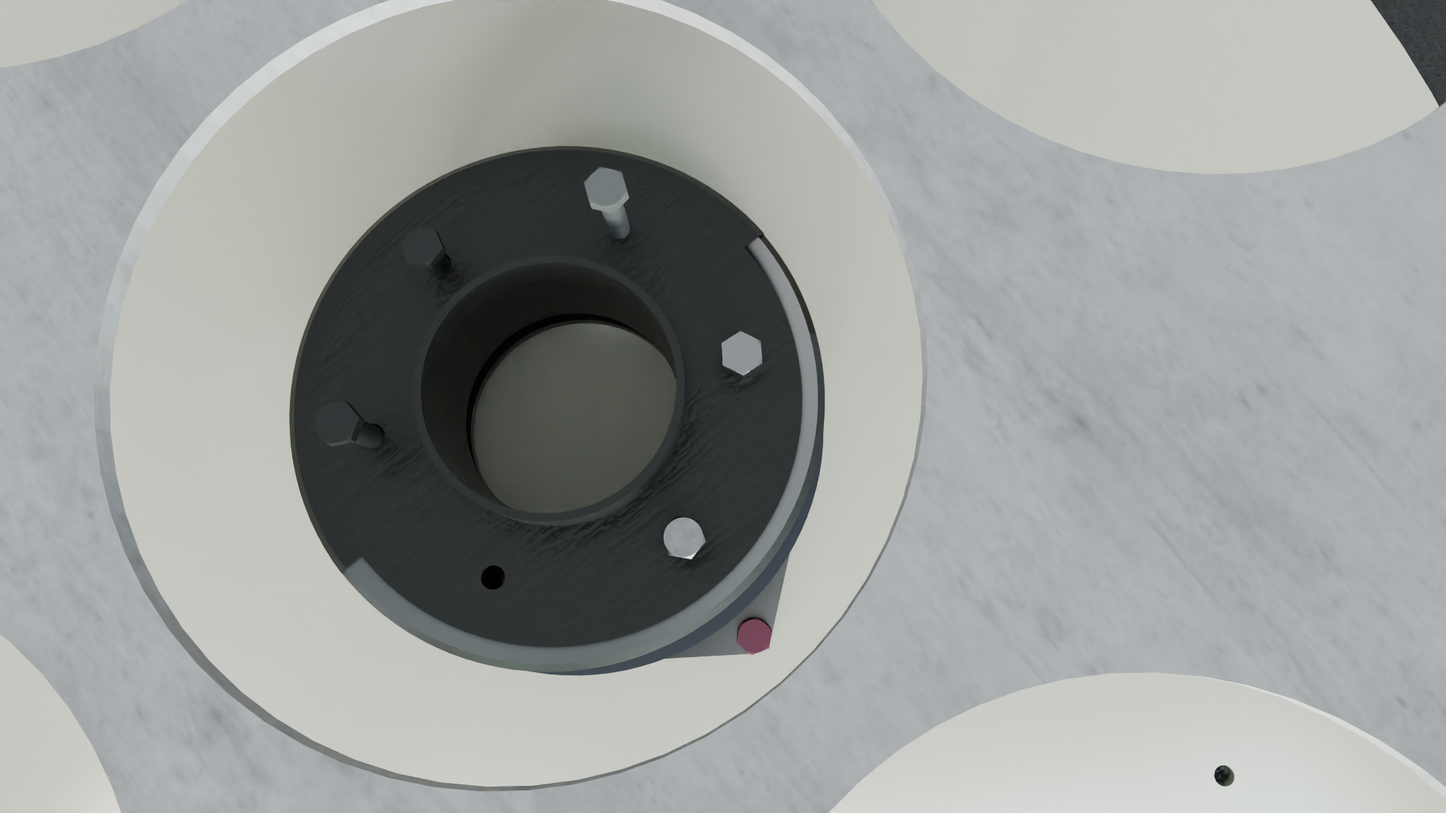bolt: (313, 400, 359, 445), (661, 516, 706, 559), (721, 331, 762, 376), (584, 167, 627, 209), (401, 227, 443, 265)
